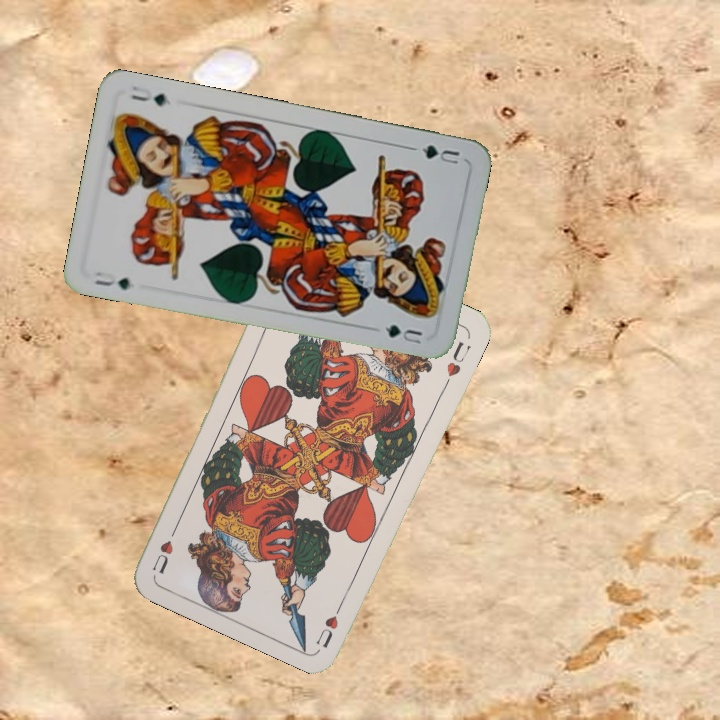GU: (417, 141, 462, 167), (90, 267, 133, 292)
HU: (312, 595, 347, 651)
